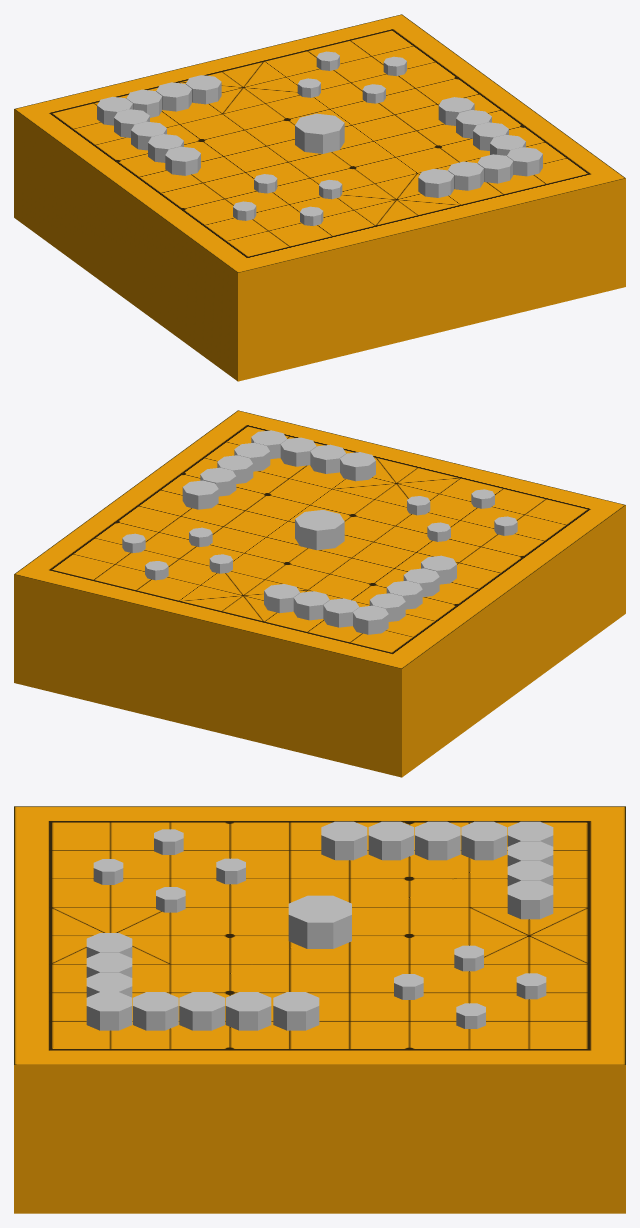
The model's file is 맵_폭풍의눈.fbx.
3 renders of one model, top to bottom at view 1: azimuth 30°, elevation 25°; view 2: azimuth 150°, elevation 25°; view 3: azimuth 270°, elevation 25°, orthographic. The views are drawn at different scales.
Parts seen in each view (by area): view 1: Cube, Cylinder.028, Cylinder.037, Cylinder.024, Cylinder.017, Cylinder.035, Cylinder.019, Cylinder.034, Cylinder.036, Cylinder.018, Cylinder.027, Cylinder.023 (+6 smaller); view 2: Cube, Cylinder.028, Cylinder.027, Cylinder.020, Cylinder.037, Cylinder.017, Cylinder.035, Cylinder.036, Cylinder.018, Cylinder.019, Cylinder.031, Cylinder.022 (+6 smaller); view 3: Cube, Cylinder.028, Cylinder.023, Cylinder.024, Cylinder.019, Cylinder.027, Cylinder.031, Cylinder.034, Cylinder.022, Cylinder.021, Cylinder.032, Cylinder.033 (+14 smaller).
Boxes of the visible parts, left/top/right/bottom form: Cube: left=14, top=14, right=625, bottom=381; Cylinder.028: left=295, top=113, right=344, bottom=153; Cylinder.037: left=418, top=169, right=454, bottom=197; Cylinder.024: left=165, top=146, right=200, bottom=175; Cylinder.017: left=156, top=82, right=191, bottom=111; Cylinder.035: left=477, top=154, right=513, bottom=183; Cylinder.019: left=186, top=75, right=221, bottom=104; Cylinder.034: left=507, top=147, right=542, bottom=176; Cylinder.036: left=448, top=161, right=483, bottom=190; Cylinder.018: left=126, top=89, right=162, bottom=117; Cylinder.027: left=438, top=97, right=474, bottom=125; Cylinder.023: left=148, top=134, right=183, bottom=162; Cube: left=14, top=410, right=625, bottom=777; Cylinder.028: left=295, top=510, right=344, bottom=550; Cylinder.027: left=182, top=480, right=218, bottom=509; Cylinder.020: left=353, top=605, right=388, bottom=634; Cylinder.037: left=340, top=452, right=375, bottom=481; Cylinder.017: left=293, top=591, right=329, bottom=620; Cylinder.035: left=280, top=437, right=316, bottom=466; Cylinder.036: left=310, top=444, right=346, bottom=473; Cylinder.018: left=323, top=598, right=359, bottom=627; Cylinder.019: left=264, top=584, right=299, bottom=613; Cylinder.031: left=200, top=467, right=236, bottom=496; Cylinder.022: left=386, top=580, right=422, bottom=609; Cube: left=14, top=806, right=625, bottom=1213; Cylinder.028: left=288, top=895, right=351, bottom=948; Cylinder.023: left=368, top=821, right=414, bottom=860; Cylinder.024: left=321, top=821, right=367, bottom=860; Cylinder.019: left=507, top=880, right=553, bottom=919; Cylinder.027: left=273, top=992, right=319, bottom=1030; Cylinder.031: left=225, top=992, right=271, bottom=1030; Cylinder.034: left=86, top=992, right=132, bottom=1030; Cylinder.022: left=415, top=821, right=460, bottom=860; Cylinder.021: left=461, top=821, right=506, bottom=860; Cylinder.032: left=179, top=992, right=224, bottom=1030; Cylinder.033: left=133, top=992, right=178, bottom=1030.
Size of the model in its own units: 6211 by 1960 by 6211.
